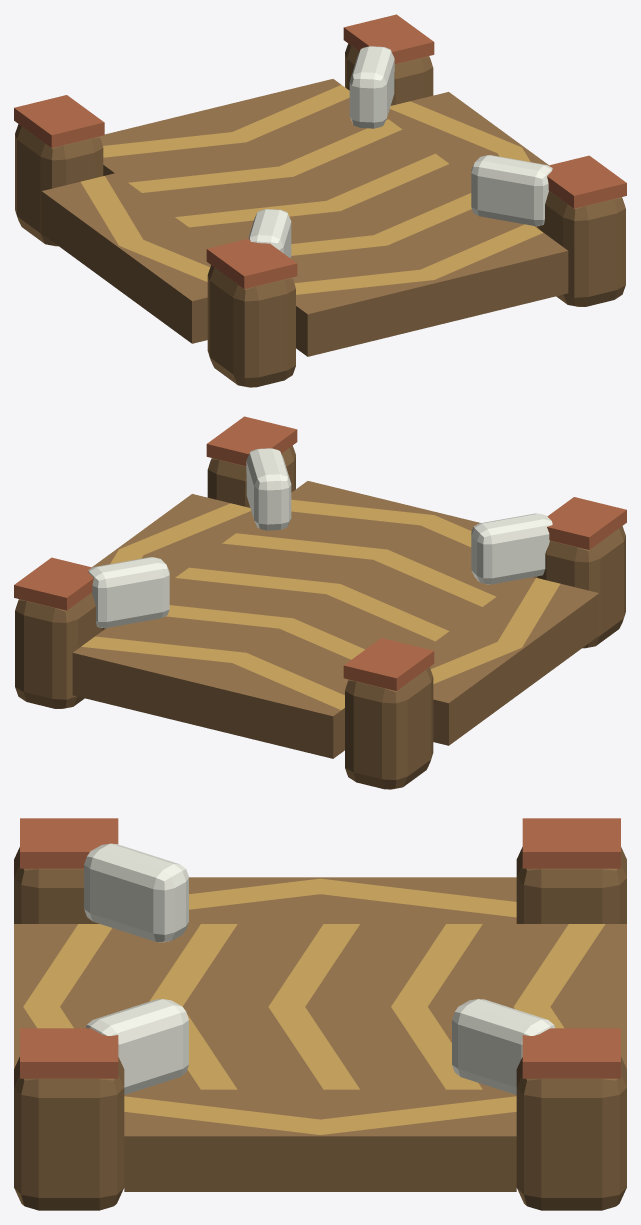
File: splitter.glb
The picture shows the model from 3 angles, top to bottom: view 1: azimuth 30°, elevation 25°; view 2: azimuth 150°, elevation 25°; view 3: azimuth 270°, elevation 25°; orthographic projection. The views are drawn at different scales.
Parts seen in each view (by area): view 1: Deck_flush_forward_chevron, Deck_flush_branch_chevron, Deck_flush_forward_chevron.003, Deck_flush_forward_chevron.002, Deck_flush_forward_chevron.004, Timber_corner_guide, Deck_flush_forward_chevron.001, Timber_corner_guide.002, Deck_flush_branch_chevron.001, Timber_corner_guide.001, Splitter_ceramic_guide_flap.001, Splitter_ceramic_guide_flap.002 (+6 smaller); view 2: Deck_flush_forward_chevron.004, Deck_flush_branch_chevron, Deck_flush_forward_chevron.002, Deck_flush_forward_chevron.001, Deck_flush_forward_chevron.003, Timber_corner_guide.001, Deck_flush_forward_chevron, Timber_corner_guide.003, Deck_flush_branch_chevron.001, Timber_corner_guide, Splitter_ceramic_guide_flap, Splitter_ceramic_guide_flap.002 (+6 smaller); view 3: Deck_flush_branch_chevron.001, Deck_flush_forward_chevron.002, Deck_flush_forward_chevron.003, Deck_flush_forward_chevron.001, Deck_flush_branch_chevron, Timber_corner_guide.002, Timber_corner_guide.003, Deck_flush_forward_chevron.004, Deck_flush_forward_chevron, Splitter_ceramic_guide_flap, Timber_corner_guide.001, Splitter_ceramic_guide_flap.001 (+6 smaller).
Part boxes in pixels (x1=…): Deck_flush_forward_chevron: x1=292, y1=220, x2=568, y2=356; Deck_flush_branch_chevron: x1=41, y1=173, x2=214, y2=343; Deck_flush_forward_chevron.003: x1=120, y1=118, x2=426, y2=210; Deck_flush_forward_chevron.002: x1=167, y1=147, x2=471, y2=245; Deck_flush_forward_chevron.004: x1=99, y1=79, x2=350, y2=176; Timber_corner_guide: x1=207, y1=265, x2=295, y2=387; Deck_flush_forward_chevron.001: x1=214, y1=183, x2=502, y2=270; Timber_corner_guide.002: x1=537, y1=190, x2=625, y2=306; Deck_flush_branch_chevron.001: x1=387, y1=92, x2=548, y2=227; Timber_corner_guide.001: x1=15, y1=124, x2=103, y2=246; Splitter_ceramic_guide_flap.001: x1=471, y1=155, x2=552, y2=226; Splitter_ceramic_guide_flap.002: x1=349, y1=46, x2=394, y2=128; Deck_flush_forward_chevron.004: x1=72, y1=622, x2=348, y2=758; Deck_flush_branch_chevron: x1=426, y1=577, x2=599, y2=745; Deck_flush_forward_chevron.002: x1=169, y1=549, x2=473, y2=647; Deck_flush_forward_chevron.001: x1=214, y1=520, x2=519, y2=612; Deck_flush_forward_chevron.003: x1=138, y1=585, x2=426, y2=672; Timber_corner_guide.001: x1=345, y1=667, x2=433, y2=789; Deck_flush_forward_chevron: x1=290, y1=481, x2=537, y2=577; Timber_corner_guide.003: x1=15, y1=592, x2=103, y2=708; Deck_flush_branch_chevron.001: x1=92, y1=494, x2=253, y2=629; Timber_corner_guide: x1=537, y1=526, x2=625, y2=648; Splitter_ceramic_guide_flap: x1=471, y1=513, x2=552, y2=584; Splitter_ceramic_guide_flap.002: x1=88, y1=557, x2=169, y2=628; Deck_flush_branch_chevron.001: x1=124, y1=1089, x2=516, y2=1191; Deck_flush_forward_chevron.002: x1=259, y1=924, x2=381, y2=1089; Deck_flush_forward_chevron.003: x1=381, y1=924, x2=504, y2=1089; Deck_flush_forward_chevron.001: x1=136, y1=924, x2=259, y2=1089; Deck_flush_branch_chevron: x1=188, y1=877, x2=516, y2=923; Timber_corner_guide.002: x1=14, y1=1057, x2=124, y2=1210; Timber_corner_guide.003: x1=516, y1=1057, x2=626, y2=1210; Deck_flush_forward_chevron.004: x1=504, y1=924, x2=626, y2=1068; Deck_flush_forward_chevron: x1=14, y1=924, x2=136, y2=1068; Splitter_ceramic_guide_flap: x1=84, y1=843, x2=188, y2=942; Timber_corner_guide.001: x1=516, y1=847, x2=626, y2=923; Splitter_ceramic_guide_flap.001: x1=86, y1=999, x2=188, y2=1094.
Size of the model in its own units: 1 by 0.29 by 1.
